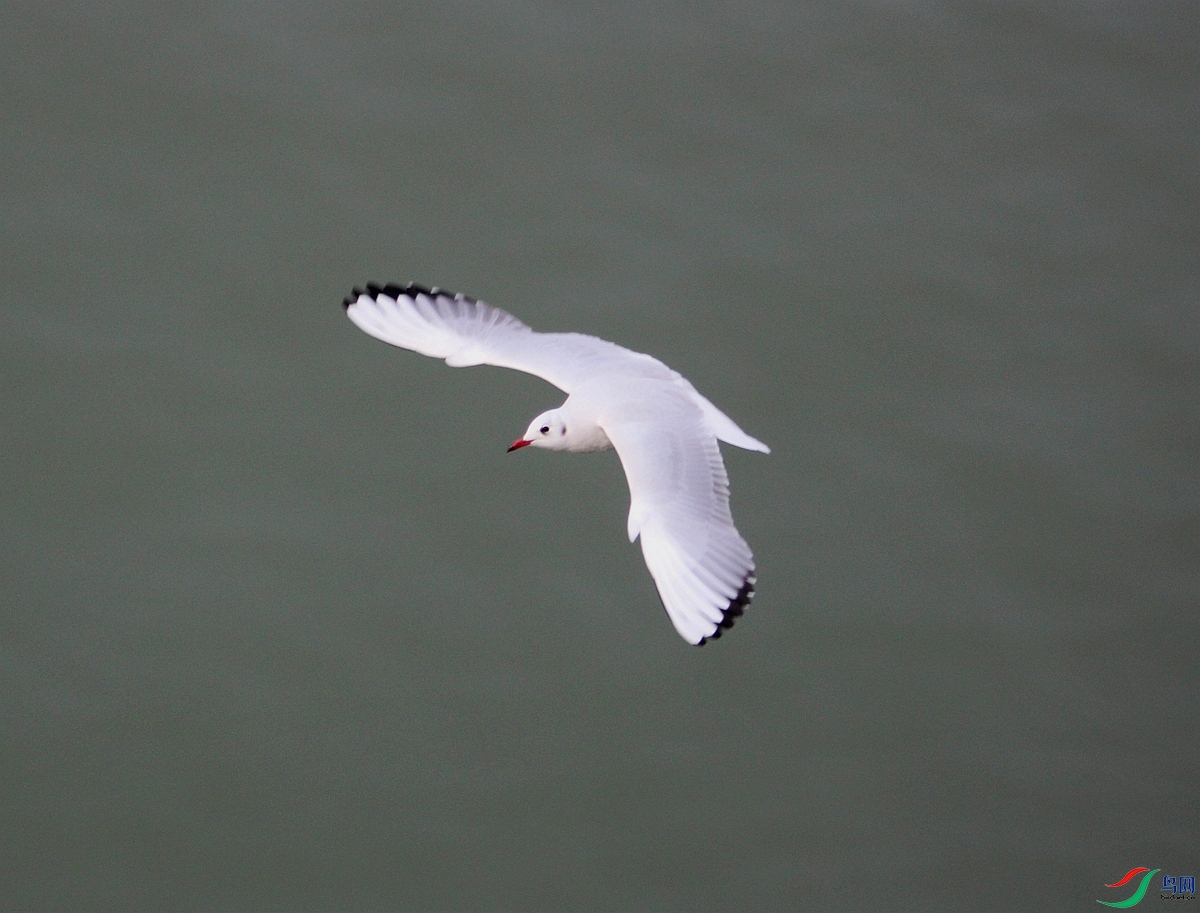bird: (329, 265, 770, 656)
